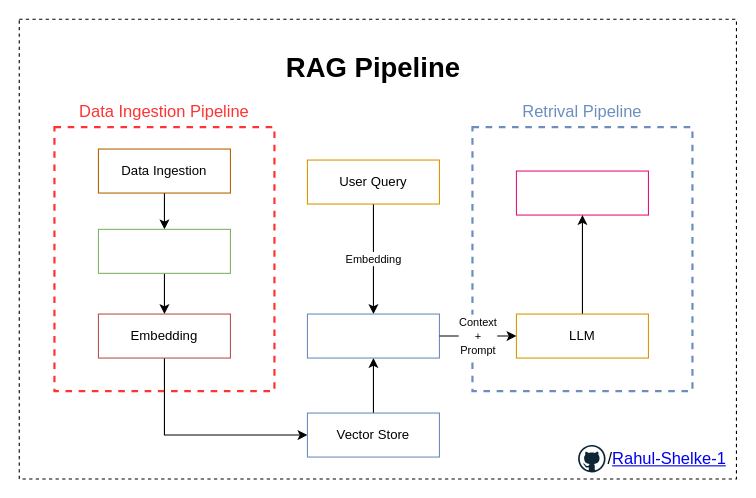
The diagram is 756 pixels wide and 498 high, and some of its shapes have lost their labels. Here are the shapes that lost their labels. From the top down, the centre of each, then its label:
At point 581,192: "Output".
At point 163,250: "Data Pasring".
At point 372,335: "Retriver".
